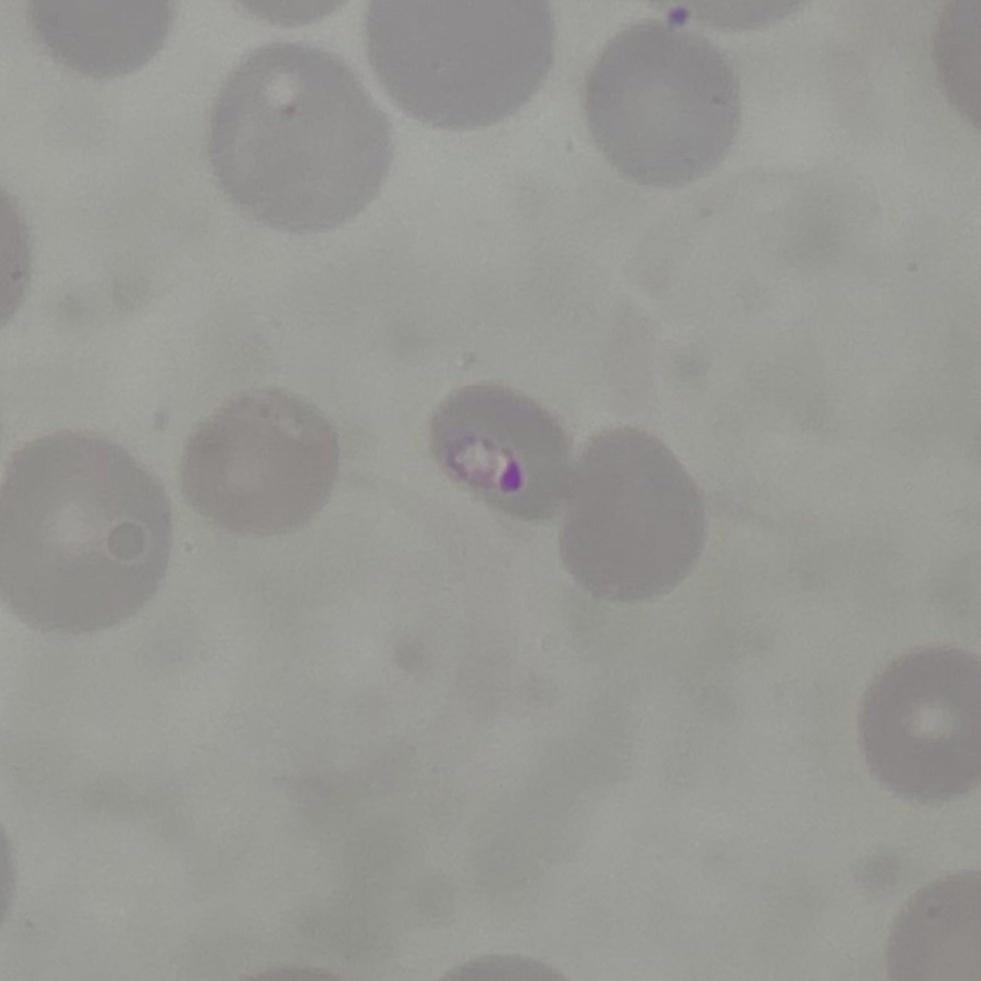Infected: (432, 388, 584, 527)
Uninfected: (0, 428, 177, 633), (210, 44, 392, 235), (588, 20, 742, 190), (560, 426, 704, 596), (360, 0, 548, 126), (186, 386, 340, 534), (860, 644, 981, 812)
